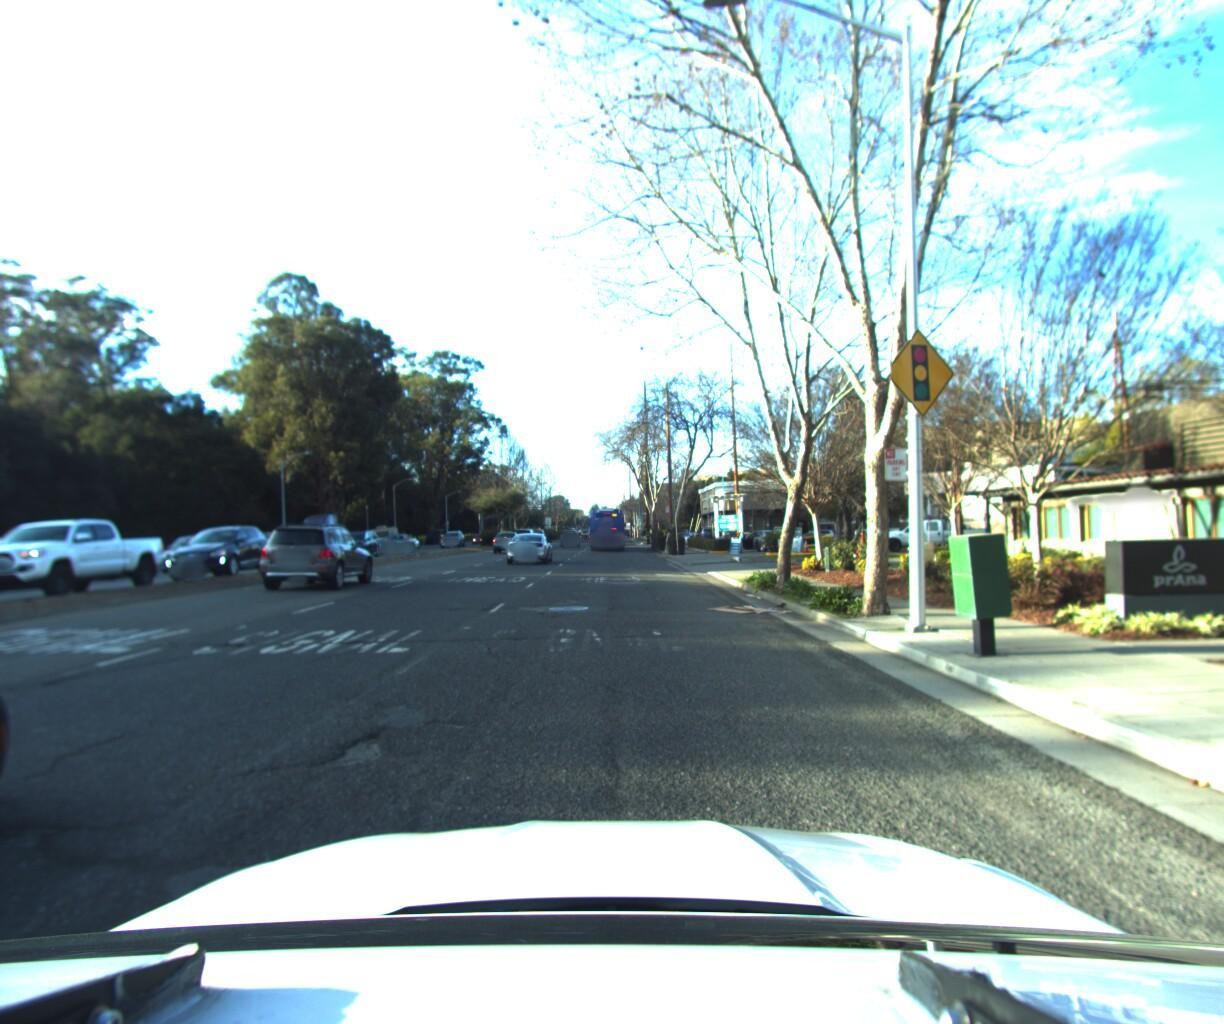bus: (587, 497, 626, 548)
car: (0, 520, 68, 1024), (0, 517, 175, 612), (255, 523, 379, 594), (163, 523, 278, 586), (873, 509, 994, 547), (506, 523, 554, 564), (376, 531, 418, 553), (486, 526, 518, 551), (437, 527, 465, 546), (558, 525, 580, 542), (0, 545, 7, 599)
truck: (286, 513, 354, 558)
